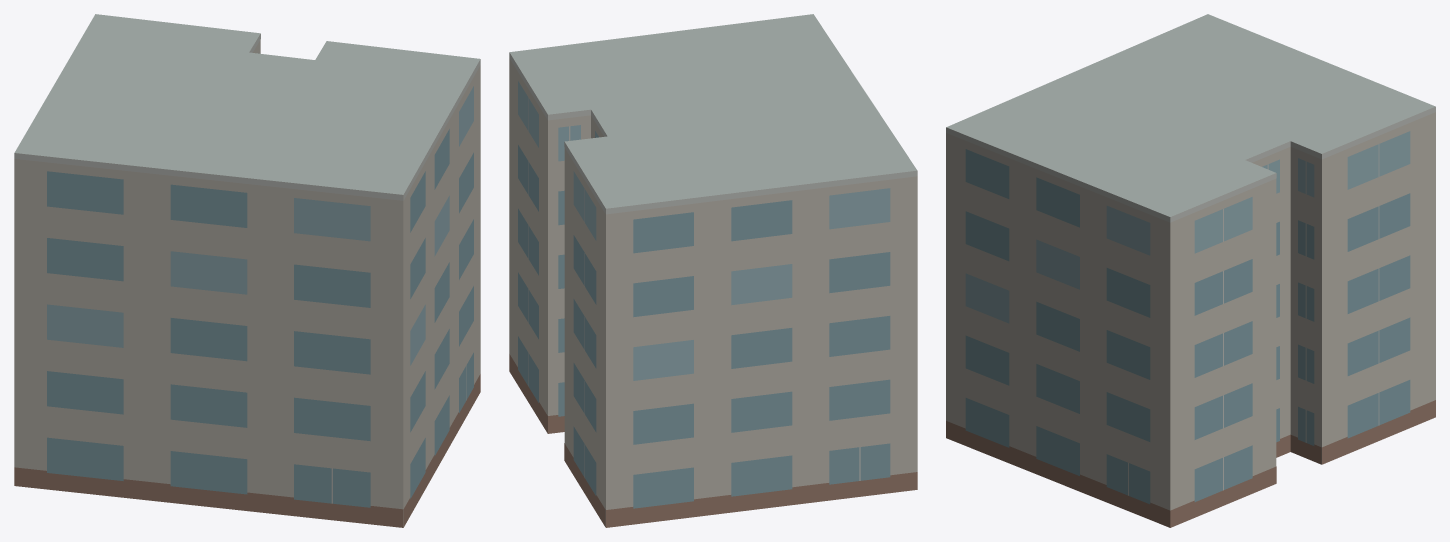
Rendered from survey-upis-32691982.glb.
3 views of the same model, side by side, from view 1: azimuth 30°, elevation 25°; view 2: azimuth 150°, elevation 25°; view 3: azimuth 270°, elevation 25° (orthographic). The views are drawn at different scales.
Visible parts, largest first — view 1: survey-upis-32691982.tmp; view 2: survey-upis-32691982.tmp; view 3: survey-upis-32691982.tmp.
Part boxes in pixels (x1,y1,x2,y2): survey-upis-32691982.tmp: (14,14,480,527); survey-upis-32691982.tmp: (509,14,917,527); survey-upis-32691982.tmp: (946,14,1435,527).
Bounding box in the file's own units: 19.14 × 13.65 × 19.5.
